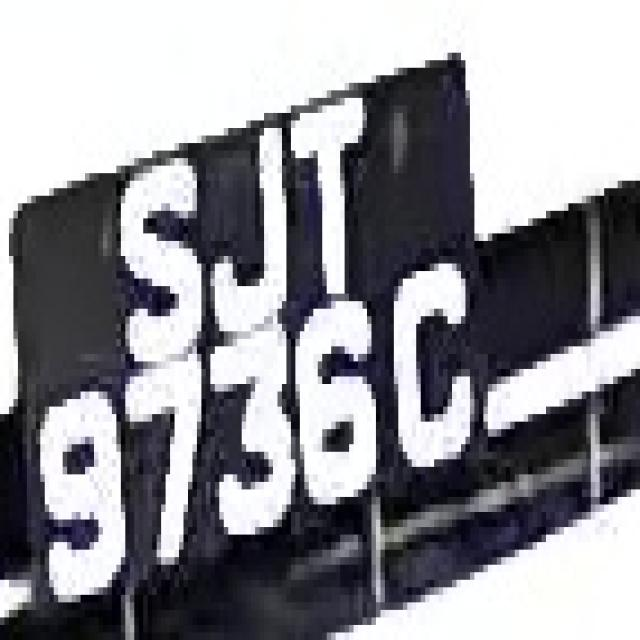3: (215, 331, 309, 550)
6: (291, 271, 385, 512)
7: (112, 354, 206, 572)
9: (22, 399, 139, 625)
C: (376, 256, 479, 504)
J: (210, 113, 296, 309)
S: (103, 150, 210, 347)
T: (286, 83, 385, 271)
